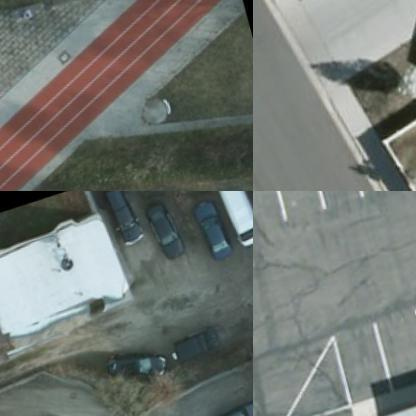car: (191, 193, 238, 266), (143, 193, 190, 266), (99, 191, 147, 250), (110, 341, 167, 385), (170, 322, 224, 364), (219, 191, 252, 251), (206, 397, 252, 415)
